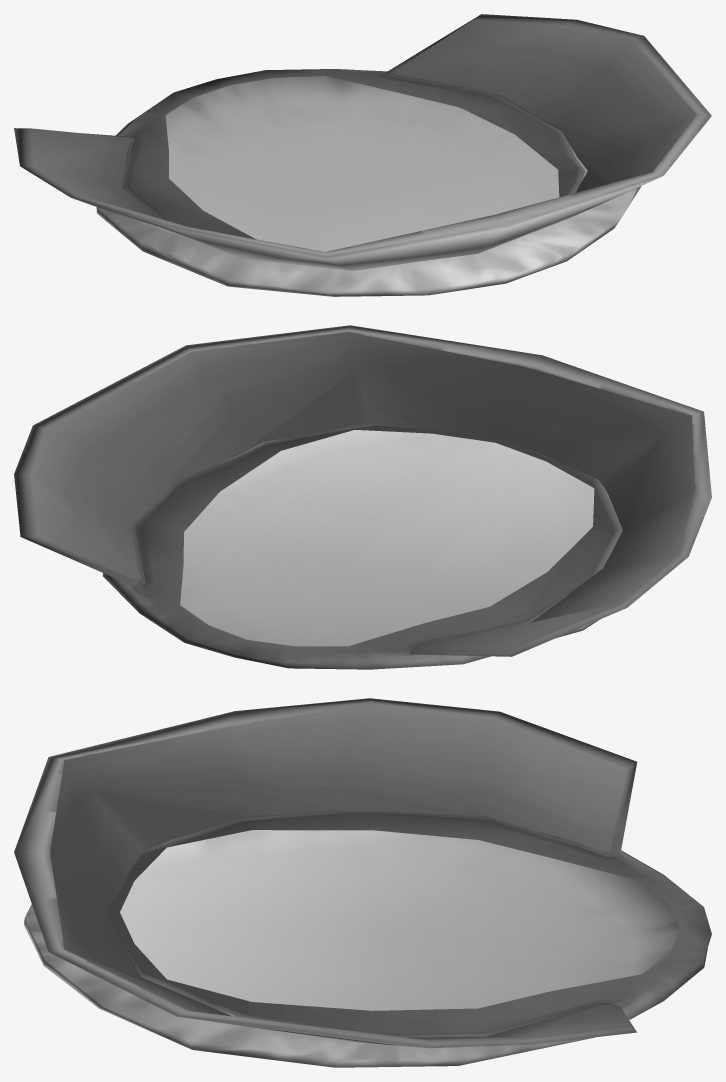
File: WorldItem_Bonnet.fbx
3 views of the same model, one above another, from view 1: azimuth 30°, elevation 25°; view 2: azimuth 150°, elevation 25°; view 3: azimuth 270°, elevation 25° (orthographic). The views are drawn at different scales.
Visible parts, largest first — view 1: Bonnet_Tied; view 2: Bonnet_Tied; view 3: Bonnet_Tied.
Boxes of the visible parts, x1,y1,x2,y2 form: Bonnet_Tied: [14, 14, 711, 296]; Bonnet_Tied: [14, 325, 711, 669]; Bonnet_Tied: [14, 698, 711, 1067].
Bounding box in the file's own units: 0.1835 × 0.0257 × 0.1561.
